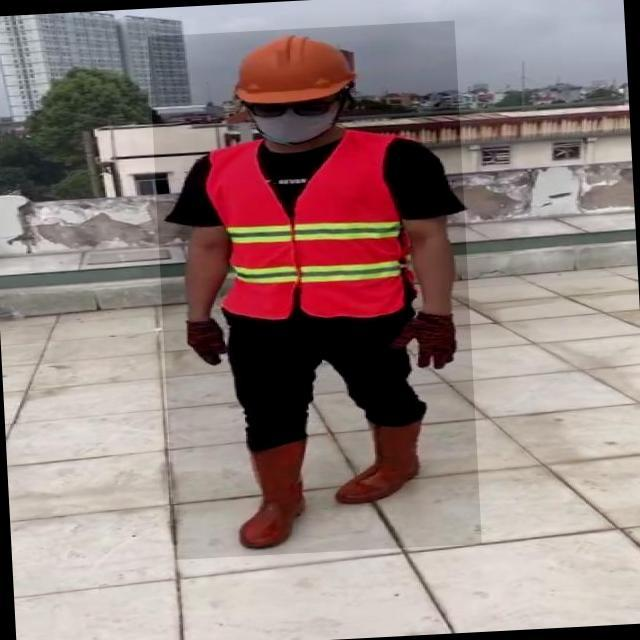Gloves: (390, 313, 463, 372), (183, 321, 230, 367)
Helmet: (225, 27, 363, 110)
Human: (148, 21, 482, 560)
Safety Boot: (236, 439, 314, 551), (331, 419, 429, 505)
Safety Vest: (209, 131, 414, 324)
